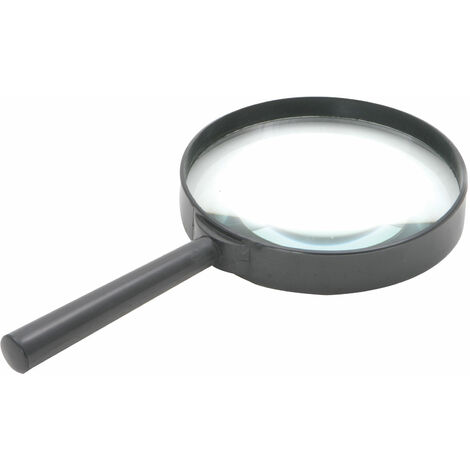magnifying-glass: (12, 77, 463, 397)
